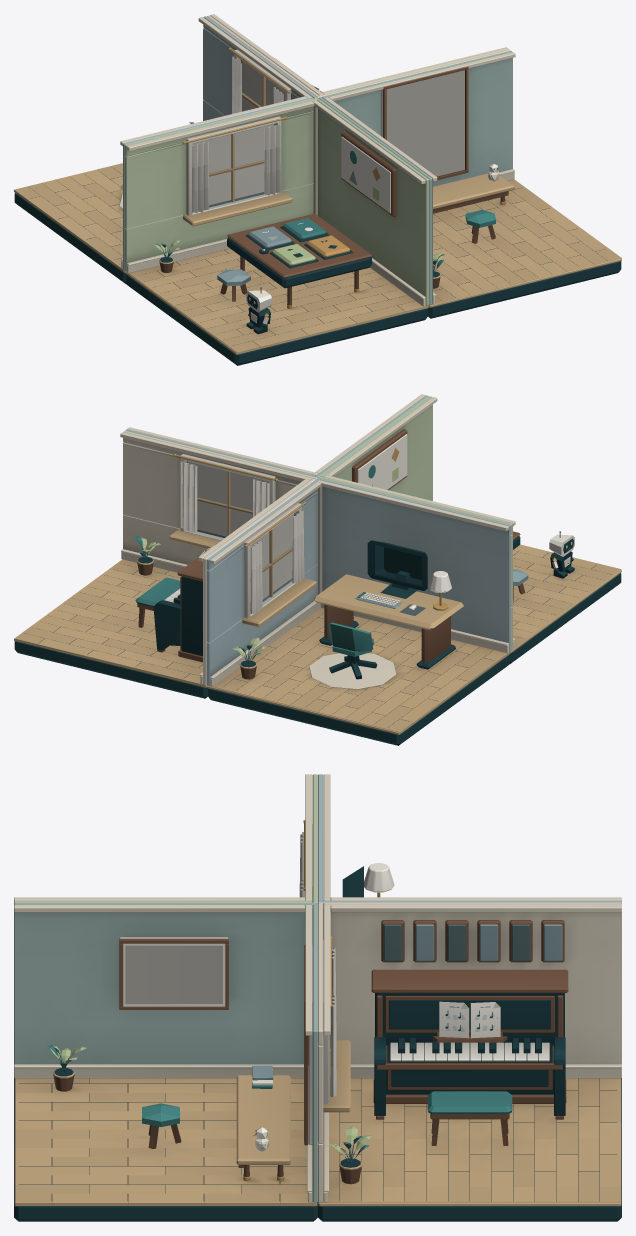
File: four-rooms.glb
The picture shows the model from 3 angles, top to bottom: view 1: azimuth 30°, elevation 25°; view 2: azimuth 150°, elevation 25°; view 3: azimuth 270°, elevation 25°; orthographic projection. The views are drawn at different scales.
Parts seen in each view (by area): view 1: RoomAI_aiWall_Baked, RoomDeveloper_developerWall_Baked, ResumeBoard_paper_Baked, RoomAI_paper_Baked, RoomAI_Oak tonal 1.0_Baked, RoomAI_Oak tonal 0.94_Baked, RoomDeveloper_Oak tonal 0.94_Baked, RoomAI_Oak tonal 1.045_Baked, RoomDeveloper_Oak tonal 1.045_Baked, RoomAI_chalk_Baked, RoomAI_ink_Baked, RoomDeveloper_Oak tonal 1.0_Baked (+25 smaller); view 2: RoomBlog_blogWall_Baked, RoomPiano_pianoWall_Baked, RoomBlog_chalk_Baked, RoomBlog_wood_Baked, RoomBlog_Oak tonal 0.94_Baked, RoomBlog_Oak tonal 1.0_Baked, RoomBlog_ink_Baked, RoomBlog_Oak tonal 1.045_Baked, RoomAI_aiWall_Baked, RoomPiano_paper_Baked, RoomPiano_Oak tonal 0.94_Baked, RoomPiano_Oak tonal 1.0_Baked (+26 smaller); view 3: RoomDeveloper_developerWall_Baked, RoomPiano_pianoWall_Baked, RoomDeveloper_Oak tonal 1.0_Baked, RoomDeveloper_Oak tonal 0.94_Baked, Piano_PianoFacet_ink_Baked, RoomPiano_Oak tonal 0.94_Baked, RoomDeveloper_Oak tonal 1.045_Baked, RoomPiano_Oak tonal 1.045_Baked, RoomPiano_Oak tonal 1.0_Baked, Piano_PianoFacet_walnut_Baked, RoomDeveloper_chalk_Baked, RoomPiano_ink_Baked (+21 smaller).
Boxes of the visible parts, bbox=[...] form: RoomAI_aiWall_Baked: bbox=[125, 98, 429, 305]; RoomDeveloper_developerWall_Baked: bbox=[318, 50, 512, 304]; ResumeBoard_paper_Baked: bbox=[381, 70, 464, 176]; RoomAI_paper_Baked: bbox=[186, 116, 390, 215]; RoomAI_Oak tonal 1.0_Baked: bbox=[157, 250, 423, 346]; RoomAI_Oak tonal 0.94_Baked: bbox=[129, 259, 414, 352]; RoomDeveloper_Oak tonal 0.94_Baked: bbox=[433, 187, 621, 303]; RoomAI_Oak tonal 1.045_Baked: bbox=[142, 248, 407, 334]; RoomDeveloper_Oak tonal 1.045_Baked: bbox=[433, 201, 580, 297]; RoomAI_chalk_Baked: bbox=[127, 100, 425, 306]; RoomAI_ink_Baked: bbox=[126, 250, 427, 365]; RoomDeveloper_Oak tonal 1.0_Baked: bbox=[433, 179, 607, 291]; RoomBlog_blogWall_Baked: bbox=[206, 478, 510, 685]; RoomPiano_pianoWall_Baked: bbox=[123, 430, 317, 684]; RoomBlog_chalk_Baked: bbox=[210, 480, 508, 689]; RoomBlog_wood_Baked: bbox=[207, 529, 510, 734]; RoomBlog_Oak tonal 0.94_Baked: bbox=[213, 607, 496, 731]; RoomBlog_Oak tonal 1.0_Baked: bbox=[235, 613, 506, 725]; RoomBlog_ink_Baked: bbox=[208, 613, 509, 745]; RoomBlog_Oak tonal 1.045_Baked: bbox=[235, 616, 479, 718]; RoomAI_aiWall_Baked: bbox=[318, 396, 512, 650]; RoomPiano_paper_Baked: bbox=[180, 454, 275, 540]; RoomPiano_Oak tonal 0.94_Baked: bbox=[14, 559, 202, 679]; RoomPiano_Oak tonal 1.0_Baked: bbox=[30, 570, 204, 684]; RoomDeveloper_developerWall_Baked: bbox=[14, 902, 317, 1202]; RoomPiano_pianoWall_Baked: bbox=[318, 902, 621, 1202]; RoomDeveloper_Oak tonal 1.0_Baked: bbox=[15, 1078, 312, 1202]; RoomDeveloper_Oak tonal 0.94_Baked: bbox=[15, 1078, 312, 1202]; Piano_PianoFacet_ink_Baked: bbox=[374, 993, 565, 1115]; RoomPiano_Oak tonal 0.94_Baked: bbox=[323, 1078, 621, 1202]; RoomDeveloper_Oak tonal 1.045_Baked: bbox=[15, 1078, 312, 1202]; RoomPiano_Oak tonal 1.045_Baked: bbox=[323, 1078, 621, 1202]; RoomPiano_Oak tonal 1.0_Baked: bbox=[323, 1078, 621, 1202]; Piano_PianoFacet_walnut_Baked: bbox=[371, 969, 568, 1119]; RoomDeveloper_chalk_Baked: bbox=[14, 905, 312, 1202]; RoomPiano_ink_Baked: bbox=[318, 1078, 621, 1221].
Size of the model in its own units: 11.2 by 3.92 by 11.2.
